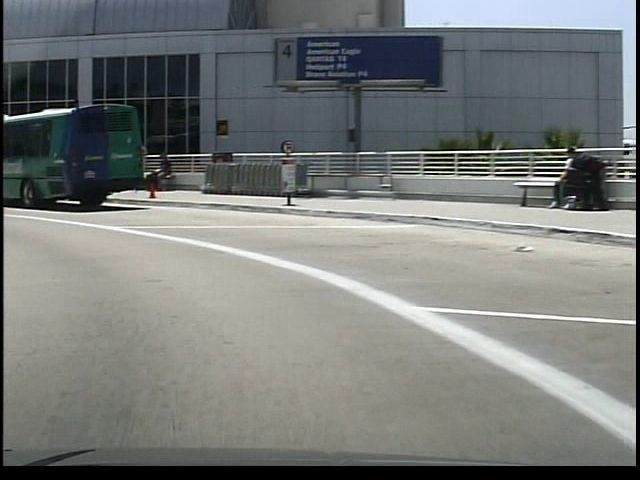person: (145, 148, 173, 195)
